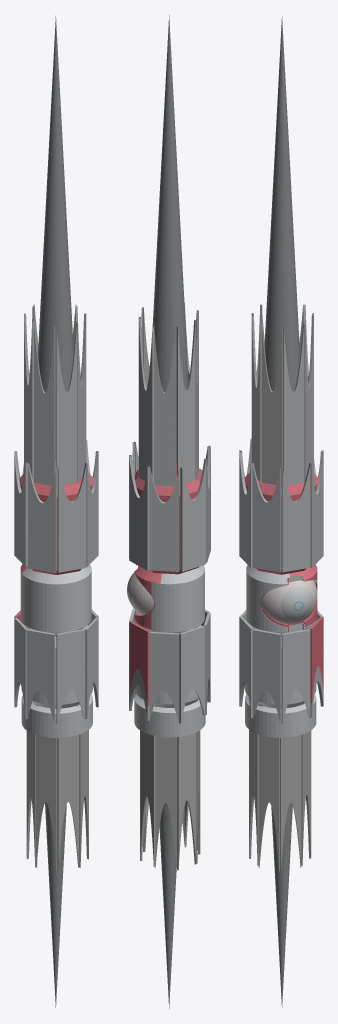
File: eye_of_karat.glb
The picture shows the model from 3 angles, left to right: view 1: azimuth 90°, elevation 25°; view 2: azimuth 150°, elevation 25°; view 3: azimuth 270°, elevation 25°; orthographic projection.
Parts seen in each view (by area): view 1: Mesh_Mesh_head_geo.001_lambert2SG.001; view 2: Mesh_Mesh_head_geo.001_lambert2SG.001; view 3: Mesh_Mesh_head_geo.001_lambert2SG.001.
Part boxes in pixels (left/top/right/bottom): Mesh_Mesh_head_geo.001_lambert2SG.001: left=14, top=16, right=98, bottom=1007; Mesh_Mesh_head_geo.001_lambert2SG.001: left=127, top=15, right=210, bottom=1008; Mesh_Mesh_head_geo.001_lambert2SG.001: left=239, top=16, right=323, bottom=1007.
Bounding box in the file's own units: 0.0367 × 0.4782 × 0.0368.
